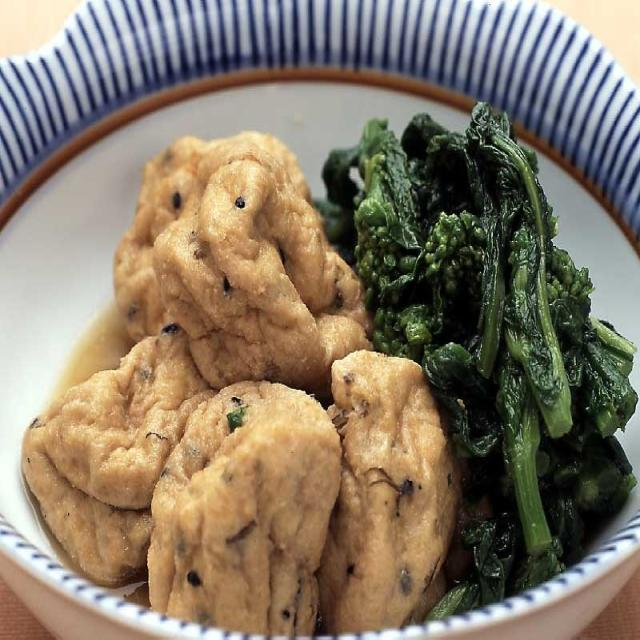熟制海鲜: (32, 107, 445, 640)
